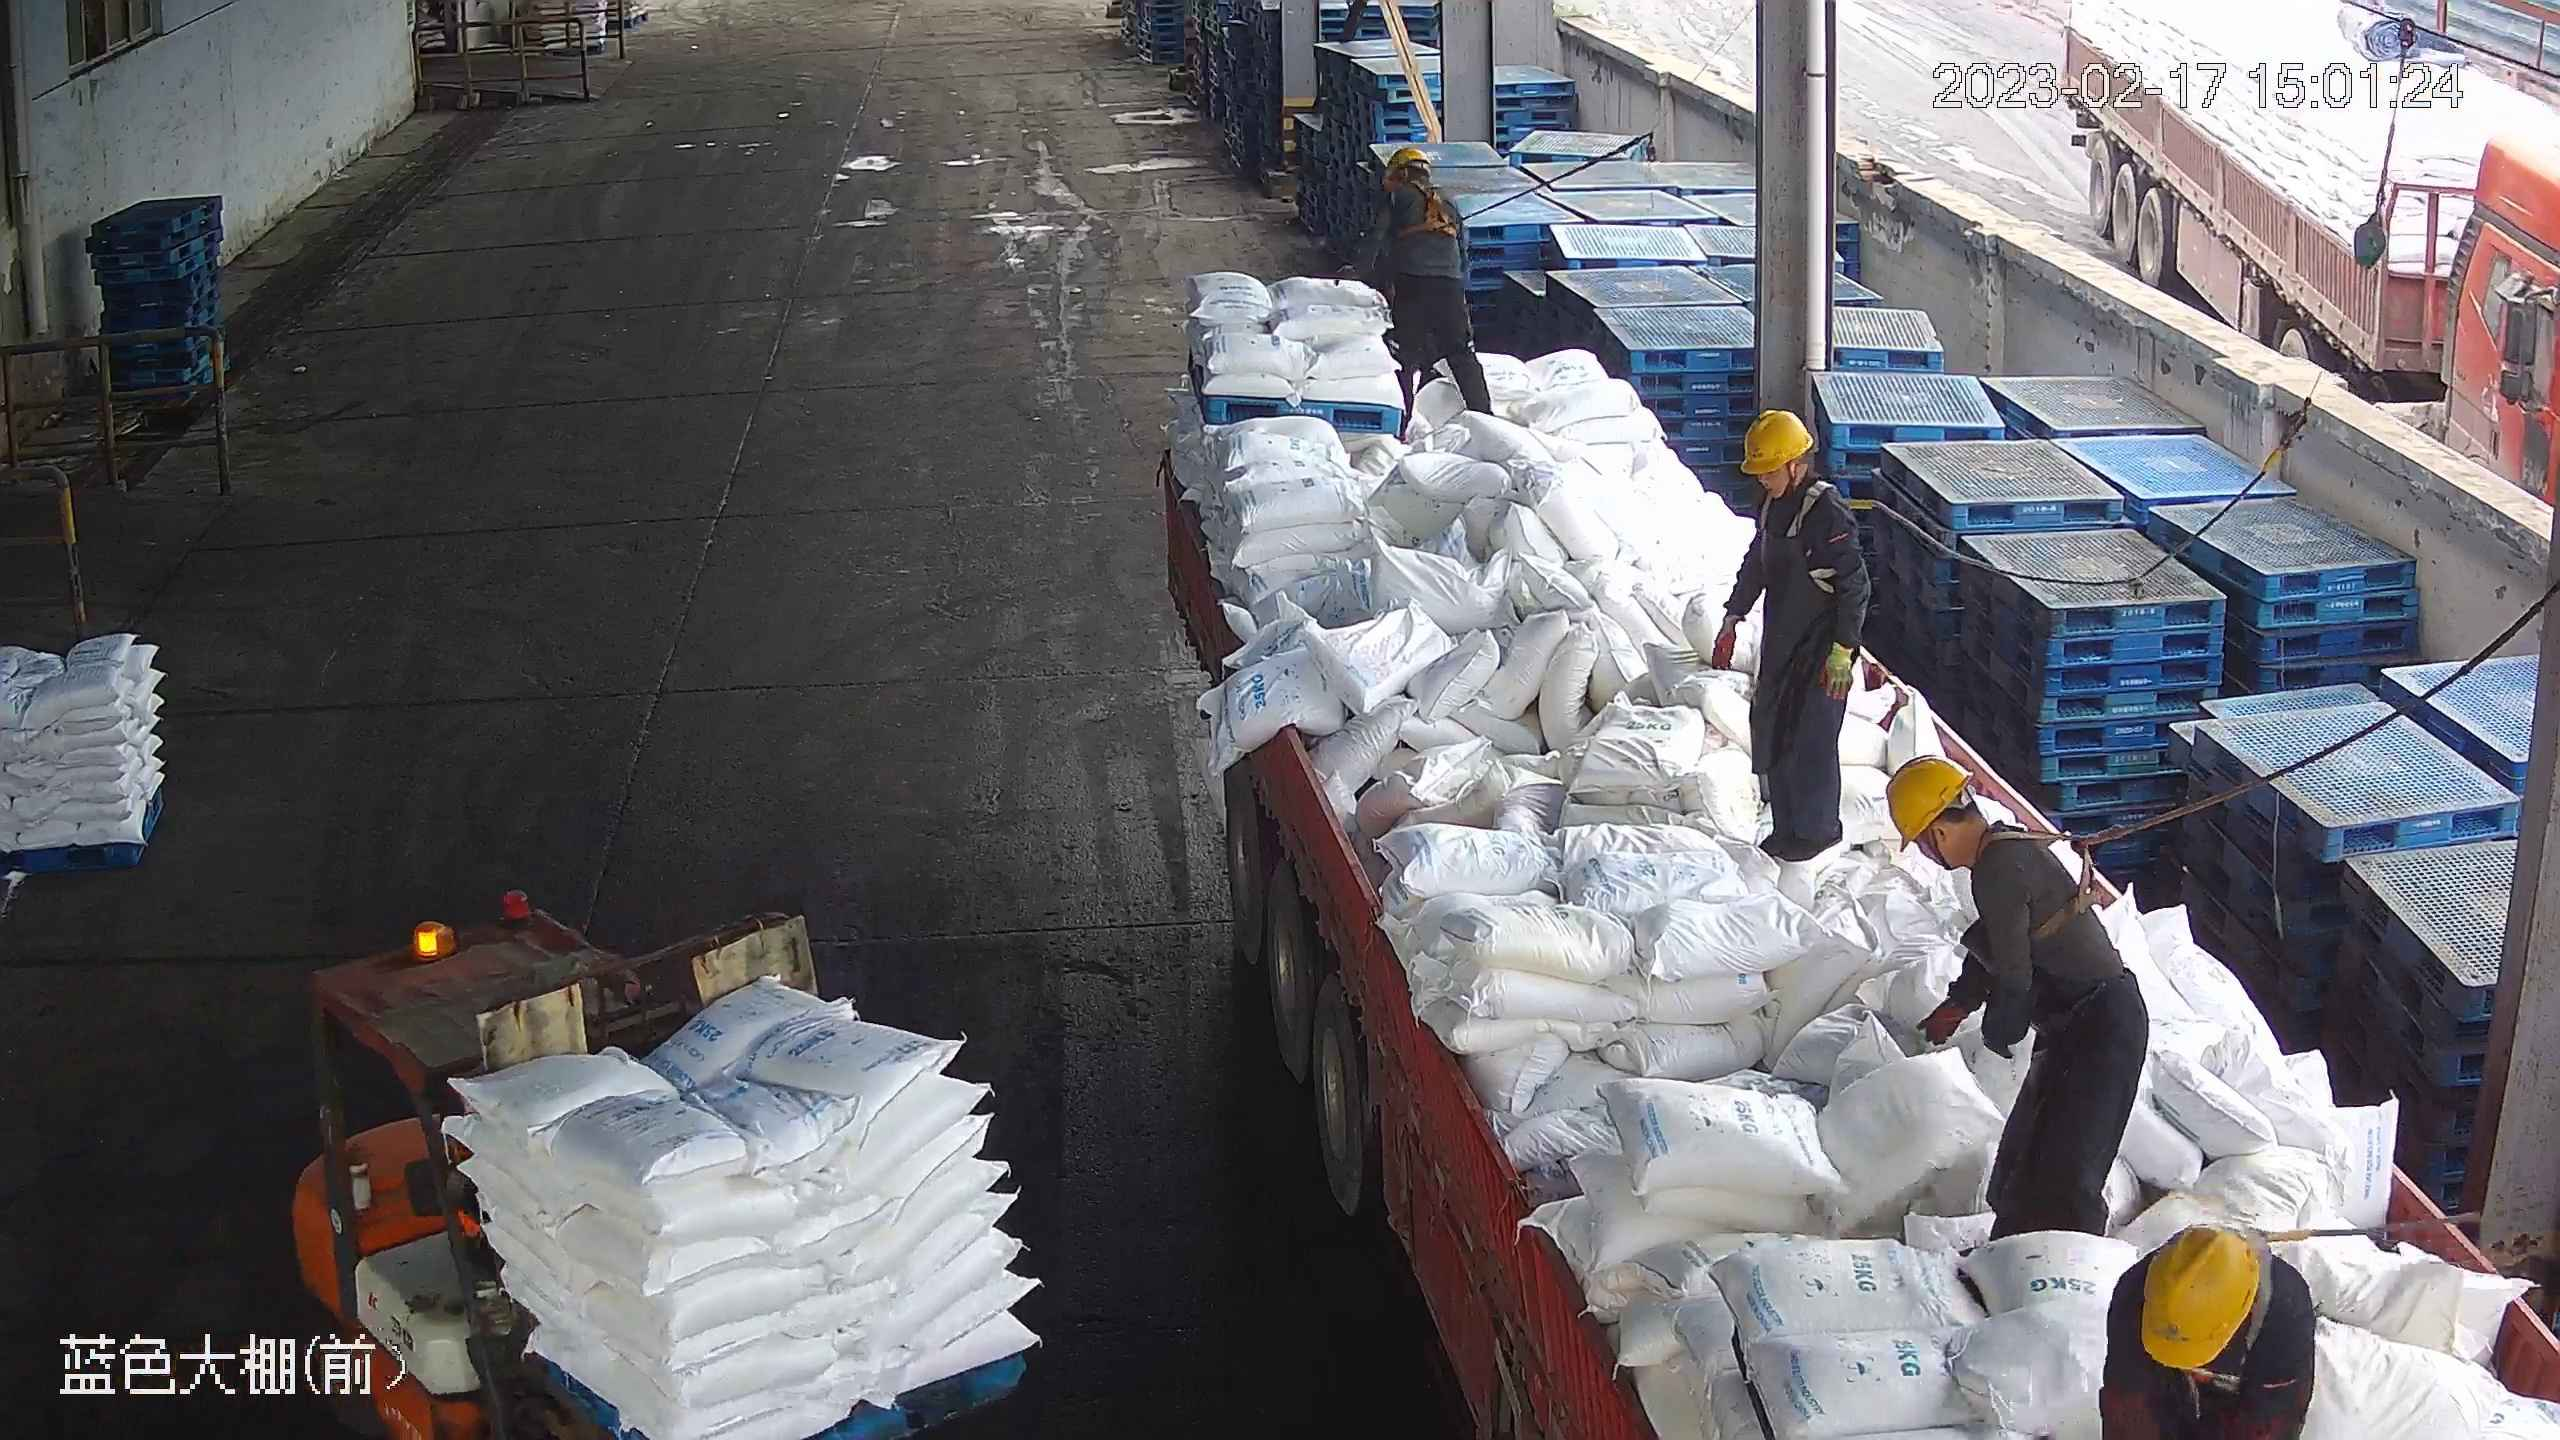belt: (1991, 821, 2119, 942), (2213, 1255, 2301, 1401), (1756, 474, 1876, 543), (1388, 177, 1468, 241)
head: (2099, 1222, 2315, 1434), (1881, 756, 2069, 920), (1736, 407, 1864, 560), (1373, 145, 1466, 227)
helmet: (2143, 1225, 2257, 1368), (1884, 752, 1973, 849), (1735, 408, 1817, 475), (1385, 145, 1431, 181)
people: (1874, 752, 2155, 1238), (1709, 403, 1876, 861), (1361, 142, 1495, 429)
truck: (1161, 329, 2560, 1440)
